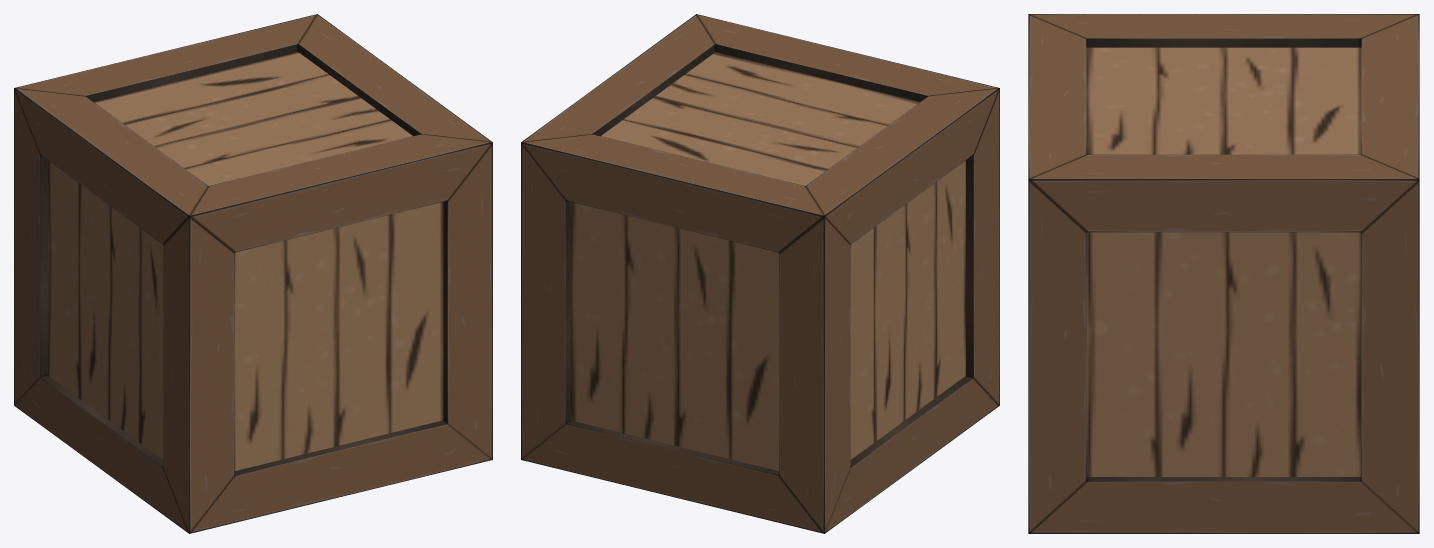
File: CRATE01.fbx
3 renders of one model, left to right at view 1: azimuth 30°, elevation 25°; view 2: azimuth 150°, elevation 25°; view 3: azimuth 270°, elevation 25°, orthographic. The views are drawn at different scales.
Visible parts, largest first — view 1: props_crate_01.001, props_crate_01.004, props_crate_01.003, props_crate_01.012, props_crate_01.011, props_crate_01.010, props_crate_01.002, props_crate_01.007, props_crate_01.009, props_crate_01.005, props_crate_01.006, props_crate_01.008; view 2: props_crate_01.003, props_crate_01.004, props_crate_01.002, props_crate_01.009, props_crate_01.007, props_crate_01.001, props_crate_01.008, props_crate_01.006, props_crate_01.005, props_crate_01.010, props_crate_01.011, props_crate_01.012; view 3: props_crate_01.002, props_crate_01.001, props_crate_01.004, props_crate_01.009, props_crate_01.007, props_crate_01.003, props_crate_01.005, props_crate_01.006, props_crate_01.008, props_crate_01.012, props_crate_01.010, props_crate_01.011.
Boxes of the visible parts, x1,y1,x2,y2 form: props_crate_01.001: (189, 134, 492, 533); props_crate_01.004: (14, 88, 208, 533); props_crate_01.003: (14, 24, 273, 405); props_crate_01.012: (361, 141, 449, 480); props_crate_01.011: (300, 156, 362, 501); props_crate_01.010: (232, 171, 295, 523); props_crate_01.002: (268, 14, 492, 142); props_crate_01.007: (129, 78, 368, 153); props_crate_01.009: (182, 116, 412, 185); props_crate_01.005: (86, 44, 315, 114); props_crate_01.006: (112, 65, 333, 127); props_crate_01.008: (164, 103, 385, 166); props_crate_01.003: (564, 141, 850, 533); props_crate_01.004: (805, 88, 999, 533); props_crate_01.002: (521, 14, 715, 470); props_crate_01.009: (680, 44, 927, 127); props_crate_01.007: (628, 91, 866, 166); props_crate_01.001: (696, 14, 998, 95); props_crate_01.008: (663, 78, 884, 140); props_crate_01.006: (610, 116, 831, 178); props_crate_01.005: (601, 129, 814, 185); props_crate_01.010: (868, 67, 955, 88); props_crate_01.011: (807, 46, 869, 73); props_crate_01.012: (740, 24, 782, 58); props_crate_01.002: (1028, 138, 1419, 533); props_crate_01.001: (1028, 14, 1086, 533); props_crate_01.004: (1029, 14, 1418, 47); props_crate_01.009: (1086, 47, 1165, 154); props_crate_01.007: (1204, 47, 1282, 154); props_crate_01.003: (1361, 14, 1419, 155); props_crate_01.005: (1322, 47, 1361, 154); props_crate_01.006: (1282, 47, 1321, 154); props_crate_01.008: (1165, 47, 1204, 154); props_crate_01.012: (1028, 121, 1086, 155); props_crate_01.010: (1028, 37, 1086, 71); props_crate_01.011: (1028, 85, 1086, 108).
Bounding box in the file's own units: 85 × 85 × 85.
Materials: 1 (1 with a texture image).
